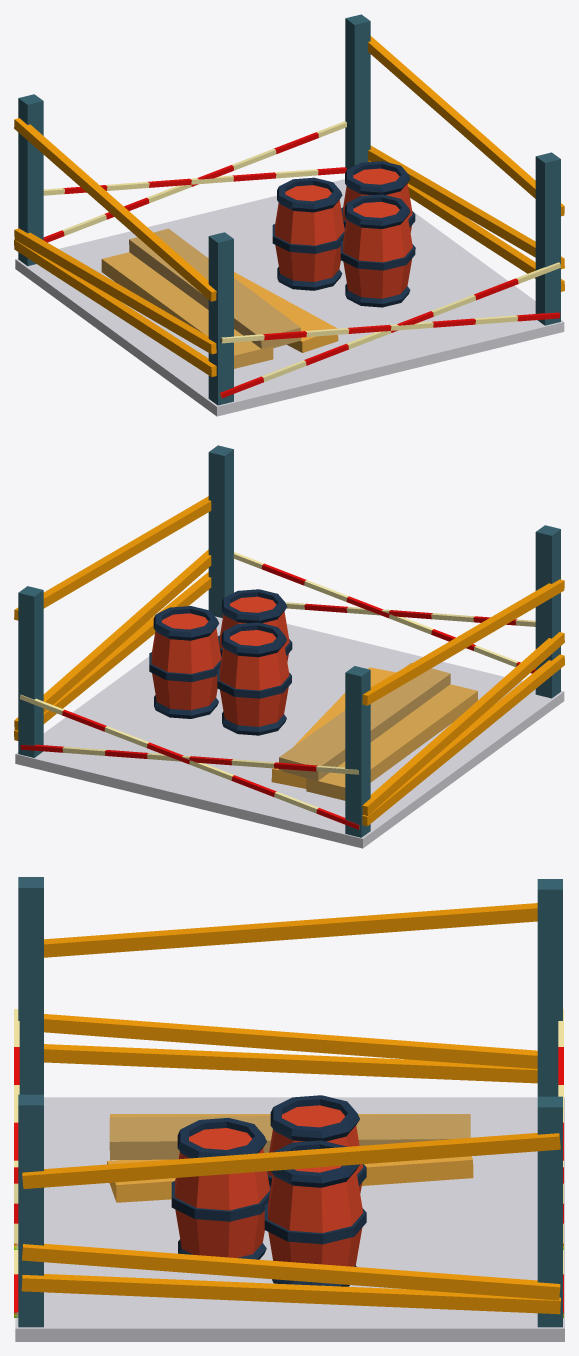
File: ConstructionOne.fbx
3 views of the same model, one above another, from view 1: azimuth 30°, elevation 25°; view 2: azimuth 150°, elevation 25°; view 3: azimuth 270°, elevation 25° (orthographic). The views are drawn at different scales.
Visible parts, largest first — view 1: Cube.007; view 2: Cube.007; view 3: Cube.007.
Part boxes in pixels (<box>): Cube.007: <box>14,14,564,416</box>; Cube.007: <box>14,445,564,848</box>; Cube.007: <box>14,877,564,1341</box>.
Bounding box in the file's own units: 5.05 × 2.36 × 5.01.
